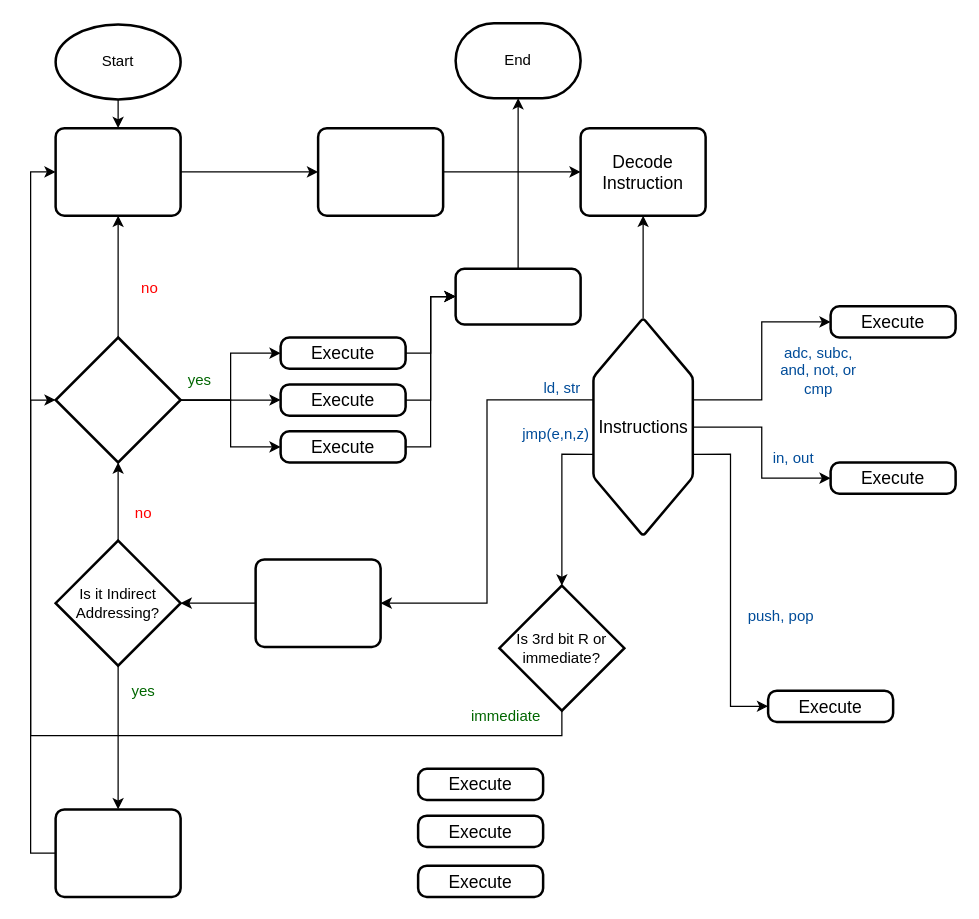
The diagram is 979 pixels wide and 919 high, and some of its shapes have lost their labels. Here are the shapes that lost their labels. From the top down, the box of each, then its label:
(54, 126, 181, 216): Fetch 8 bits
(316, 126, 444, 216): Set Fetch Flag to 1
(454, 267, 581, 325): Set Fetch Flag to 0
(54, 336, 181, 463): Is Fetch Flag set to 1?
(254, 558, 381, 648): Decode Addressing Mode
(54, 808, 181, 898): Calculate Address
